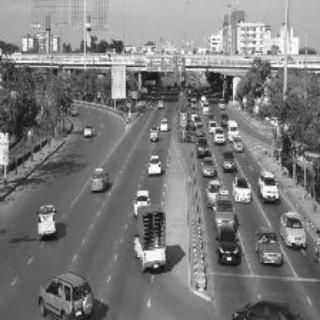other: (268, 202, 308, 250), (86, 164, 108, 190)
